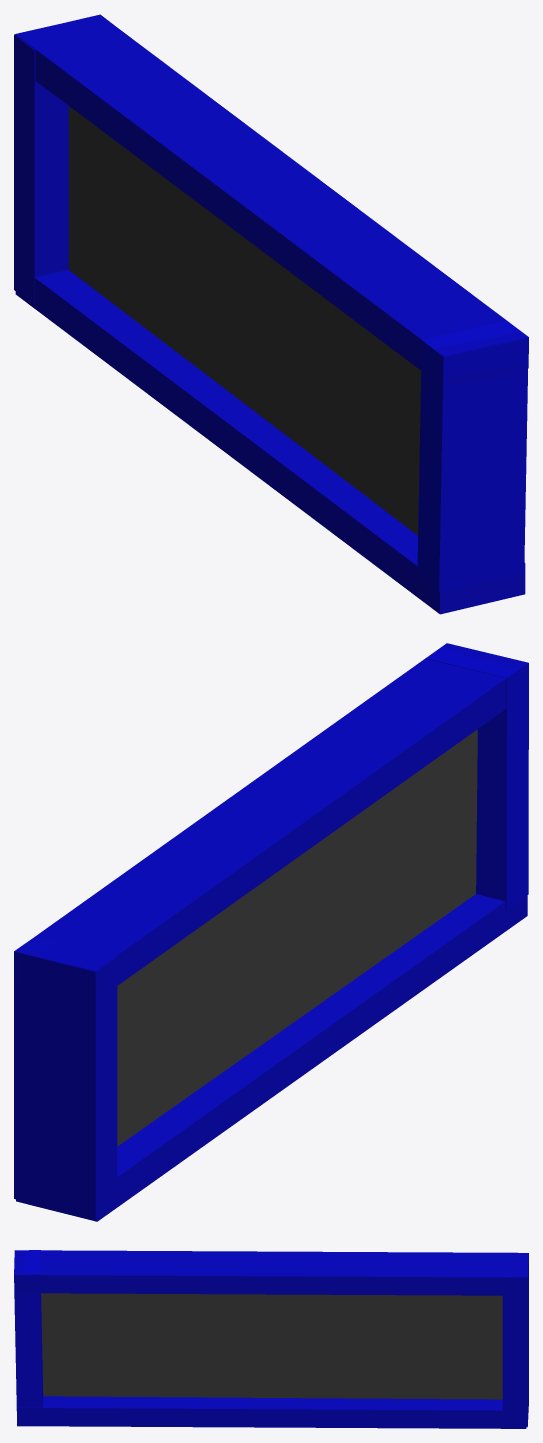
Rendered from bulle_dialog.glb.
The picture shows the model from 3 angles, top to bottom: view 1: azimuth 30°, elevation 25°; view 2: azimuth 150°, elevation 25°; view 3: azimuth 270°, elevation 25°; orthographic projection. The views are drawn at different scales.
Visible parts, largest first — view 1: Cube.001, Cube.004, Cube.005, Cube.003, Cube.002; view 2: Cube.001, Cube.004, Cube.002, Cube.005, Cube.003; view 3: Cube.001, Cube.004, Cube.005, Cube.002, Cube.003.
Boxes of the visible parts, bbox=[...] form: Cube.001: bbox=[68, 106, 421, 535]; Cube.004: bbox=[15, 20, 528, 387]; Cube.005: bbox=[15, 270, 525, 614]; Cube.003: bbox=[417, 320, 528, 592]; Cube.002: bbox=[14, 14, 120, 305]; Cube.001: bbox=[117, 729, 477, 1146]; Cube.004: bbox=[14, 643, 527, 985]; Cube.002: bbox=[14, 936, 117, 1219]; Cube.005: bbox=[16, 894, 527, 1221]; Cube.003: bbox=[425, 648, 528, 909]; Cube.001: bbox=[41, 1293, 502, 1399]; Cube.004: bbox=[14, 1250, 528, 1295]; Cube.005: bbox=[17, 1396, 526, 1428]; Cube.002: bbox=[502, 1253, 528, 1427]; Cube.003: bbox=[14, 1250, 43, 1410].
Size of the model in its own units: 0.512 by 1.32 by 4.05.
